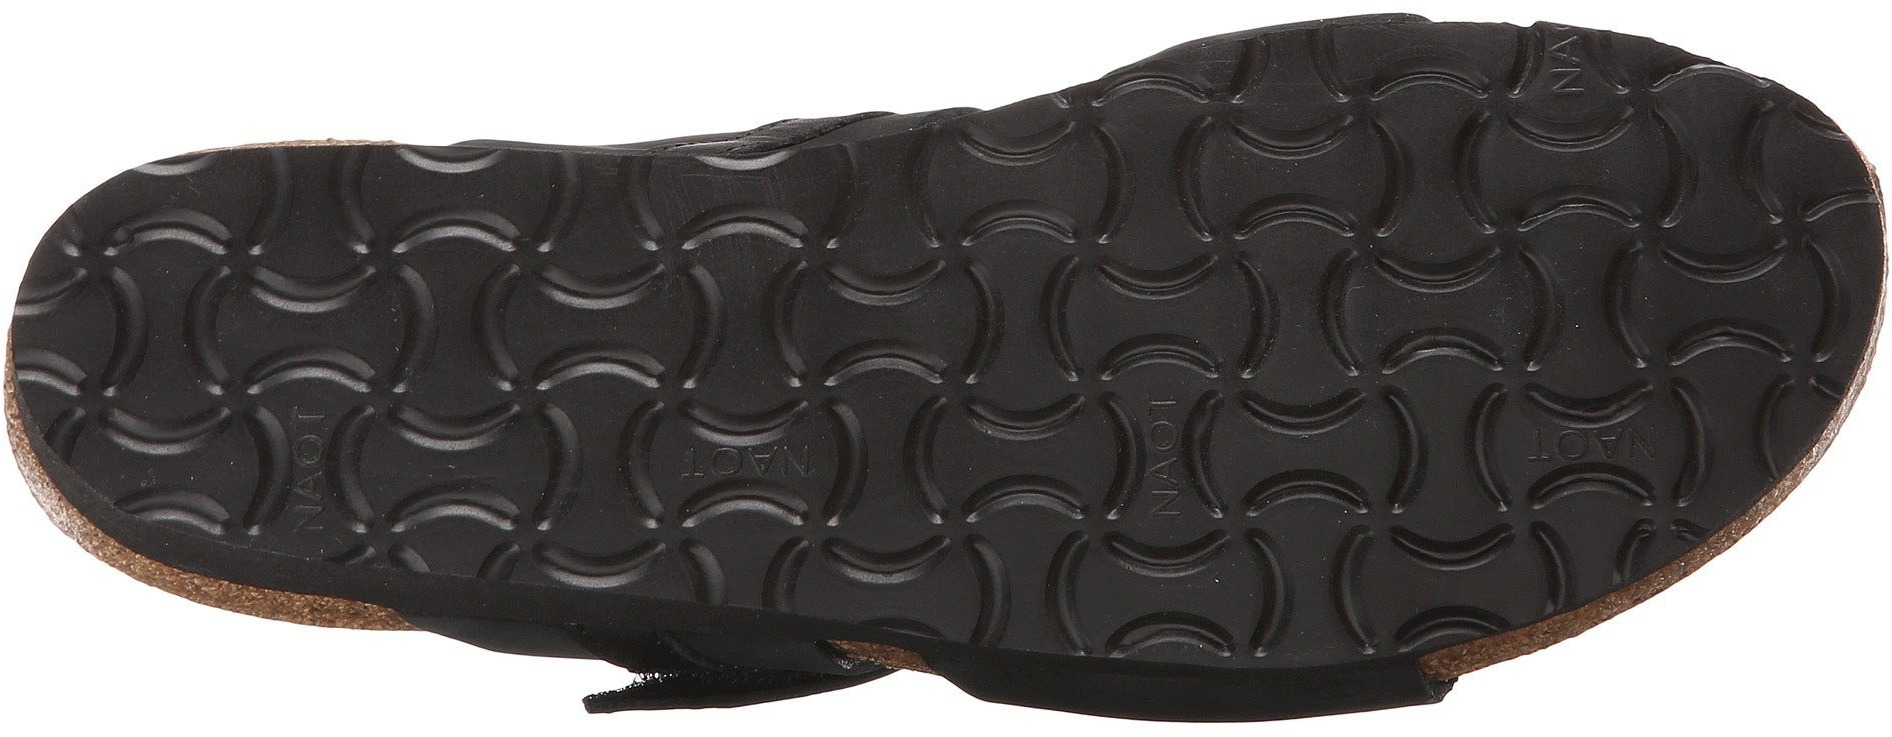bowtie: (1277, 45, 1698, 480), (316, 162, 662, 509), (960, 112, 1271, 466), (668, 176, 959, 546), (68, 215, 316, 503), (1047, 478, 1234, 682), (1246, 487, 1411, 641)
circle: (1516, 404, 1683, 493), (1129, 390, 1210, 542), (661, 439, 824, 499)
star: (1022, 189, 1178, 343), (457, 185, 608, 343), (1290, 179, 1449, 322)
text: (1516, 404, 1683, 493), (1129, 390, 1210, 542), (661, 439, 824, 499)
